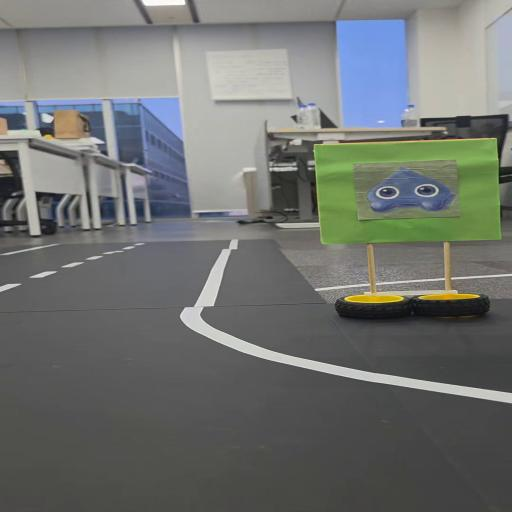Sign_B: (308, 138, 512, 331)
